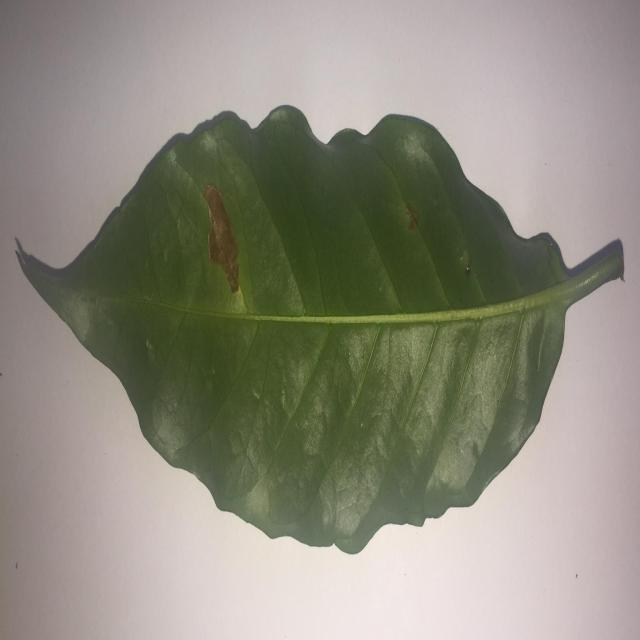miner: (202, 184, 242, 295), (403, 201, 420, 229)
